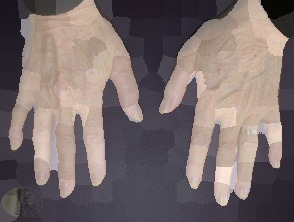Nail_psoriasis: (185, 171, 205, 191), (127, 101, 145, 123), (156, 96, 172, 116), (88, 169, 105, 187), (234, 184, 249, 201), (59, 180, 72, 198), (217, 191, 229, 207)
